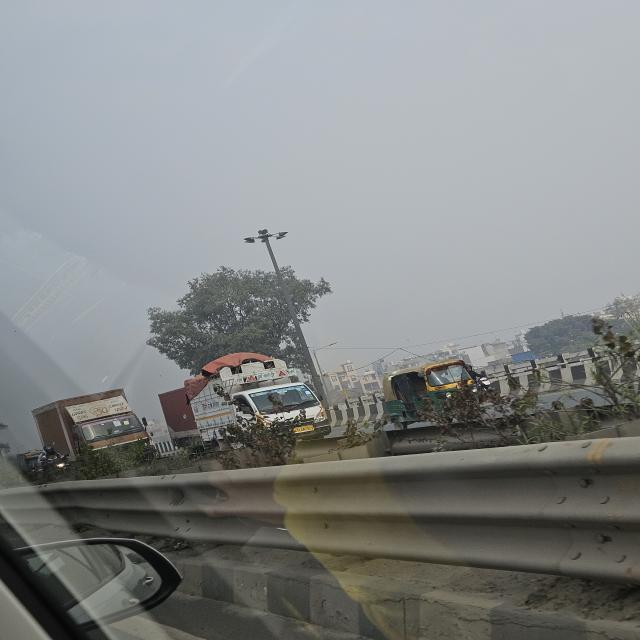covered: (178, 354, 332, 442), (30, 386, 150, 452)
